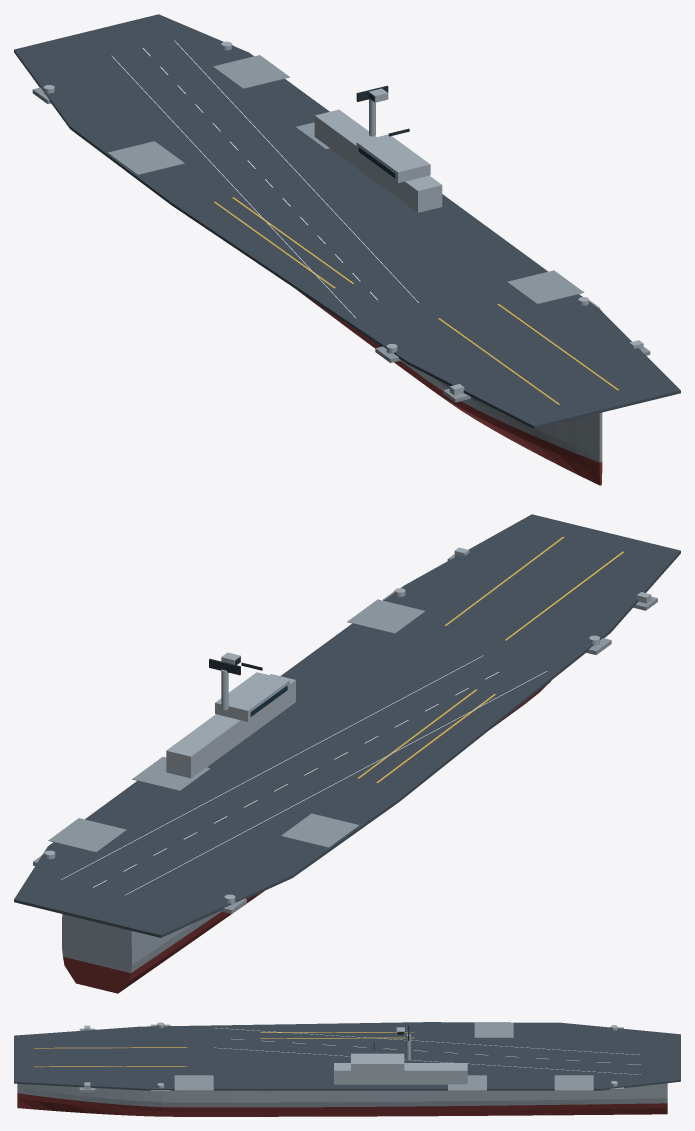
The model's file is ran_cvn_federation_1972.obj.
3 renders of one model, top to bottom at view 1: azimuth 30°, elevation 25°; view 2: azimuth 150°, elevation 25°; view 3: azimuth 270°, elevation 25°, orthographic. The views are drawn at different scales.
Parts seen in each view (by area): view 1: FlightDeck, Island, UnderwaterHull, Hull, Bridge, Elevator_1, Elevator_3, Elevator_4; view 2: FlightDeck, Hull, Island, UnderwaterHull, Bridge, Elevator_1, Elevator_3, Elevator_4, Elevator_2; view 3: FlightDeck, Hull, UnderwaterHull, Island, Bridge, Elevator_1, Elevator_3, Elevator_4, Elevator_2, LandingEdge_-1, LandingEdge_1, Catapult_2 (+1 smaller).
Boxes of the visible parts, x1,y1,x2,y2 form: FlightDeck: (14,14,680,428); Island: (314,109,442,212); UnderwaterHull: (297,290,602,485); Hull: (400,360,602,462); Bridge: (356,134,430,183); Elevator_1: (507,270,584,304); Elevator_3: (213,55,289,88); Elevator_4: (108,141,184,174); FlightDeck: (14,514,680,937); Hull: (62,911,220,973); Island: (166,674,295,778); UnderwaterHull: (63,680,551,993); Bridge: (215,672,289,721); Elevator_1: (347,599,425,633); Elevator_3: (48,818,126,852); Elevator_4: (281,813,359,847); Elevator_2: (132,756,210,790); FlightDeck: (14,1022,680,1090); Hull: (17,1083,667,1107); UnderwaterHull: (17,1093,667,1116); Island: (334,1063,467,1084); Bridge: (351,1053,404,1070); Elevator_1: (174,1075,213,1090); Elevator_3: (554,1075,593,1090); Elevator_4: (474,1022,513,1037); Elevator_2: (448,1075,486,1090); LandingEdge_-1: (214,1028,639,1054); LandingEdge_1: (214,1047,640,1074); Catapult_2: (34,1047,187,1048).
Bounding box in the file's own units: 83.1 × 58.2 × 342.
